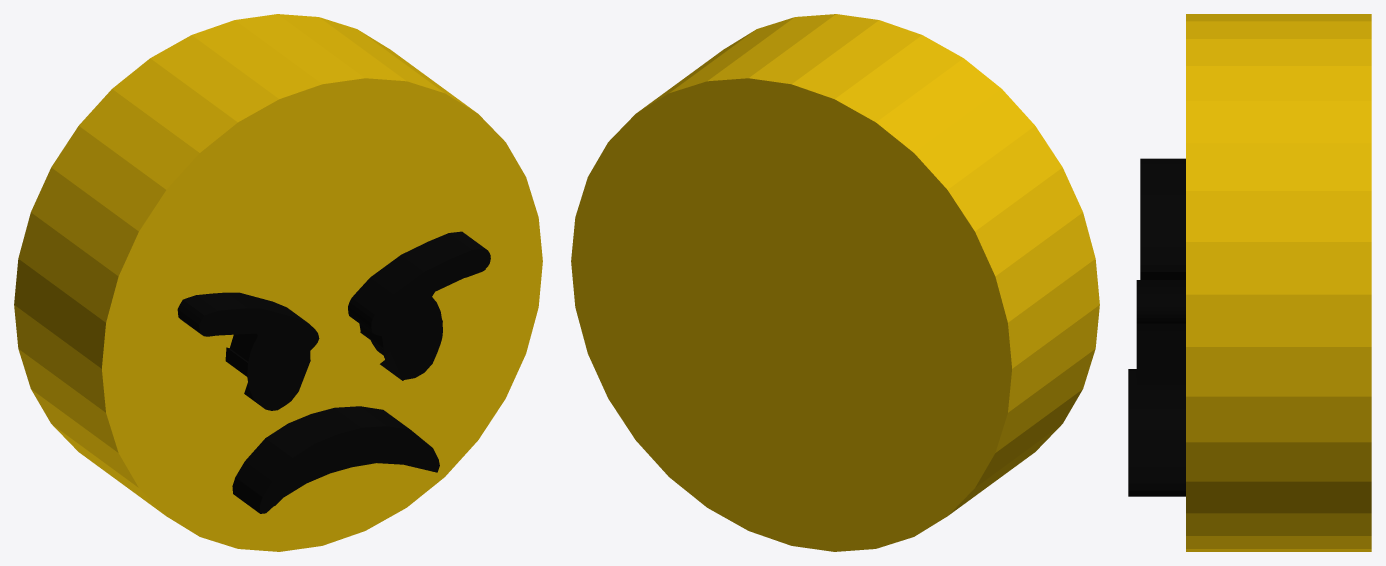
The model's file is AngryFBX.fbx.
3 views of the same model, side by side, from view 1: azimuth 30°, elevation 25°; view 2: azimuth 150°, elevation 25°; view 3: azimuth 270°, elevation 25° (orthographic). The views are drawn at different scales.
Parts seen in each view (by area): view 1: Cylinder, Cube.002, Cube.001, Cube; view 2: Cylinder; view 3: Cylinder, Cube.002, Cube, Cube.001.
Part boxes in pixels (bbox=[...]): Cylinder: bbox=[14, 14, 542, 551]; Cube.002: bbox=[232, 406, 439, 513]; Cube.001: bbox=[348, 231, 490, 380]; Cube: bbox=[177, 292, 319, 410]; Cylinder: bbox=[571, 14, 1099, 551]; Cylinder: bbox=[1186, 14, 1371, 551]; Cube.002: bbox=[1128, 369, 1185, 496]; Cube: bbox=[1140, 158, 1185, 279]; Cube.001: bbox=[1136, 280, 1185, 385].
Size of the model in its own units: 281 by 281 by 127.
